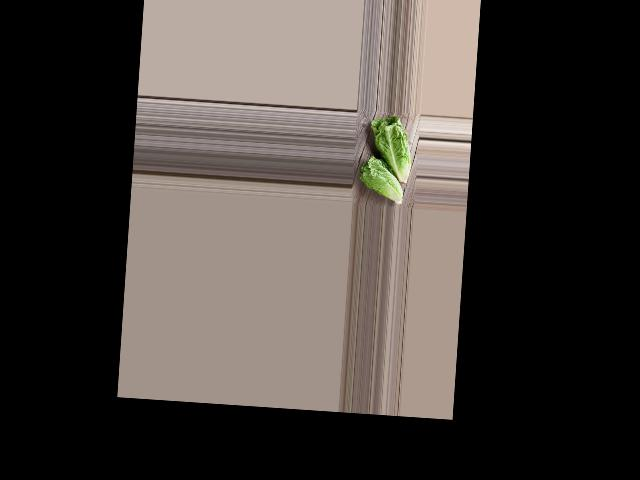lettuce: (354, 153, 407, 207)
